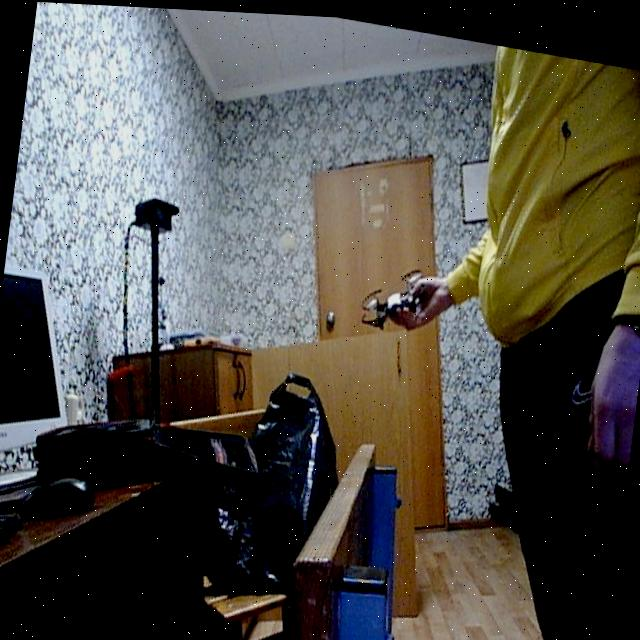drone: (346, 247, 438, 340)
